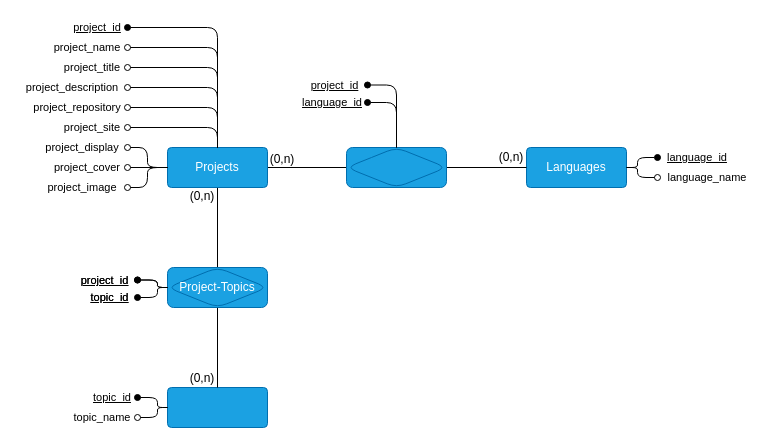
Image size: 774x445. Some labels were removed from this diagram. Here are the shapes that lost their labels. From the top down, the box of each, then its label:
(346, 146, 446, 188): Project-Languages
(166, 386, 268, 428): Topics
